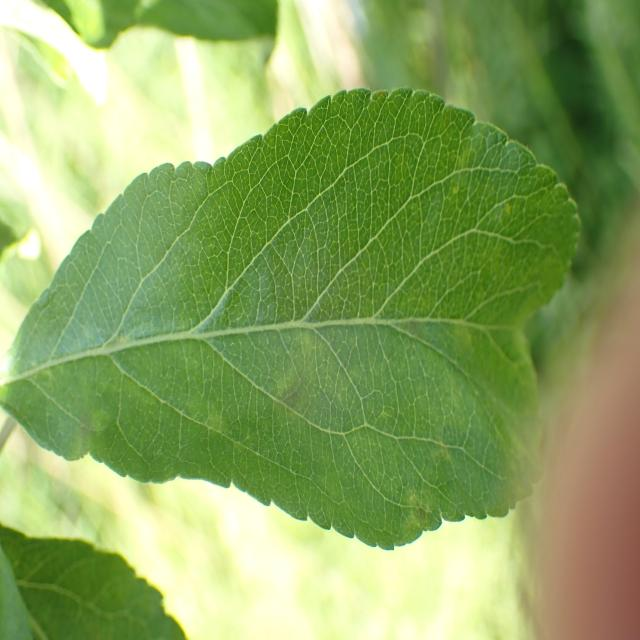scab: (34, 140, 540, 527)
